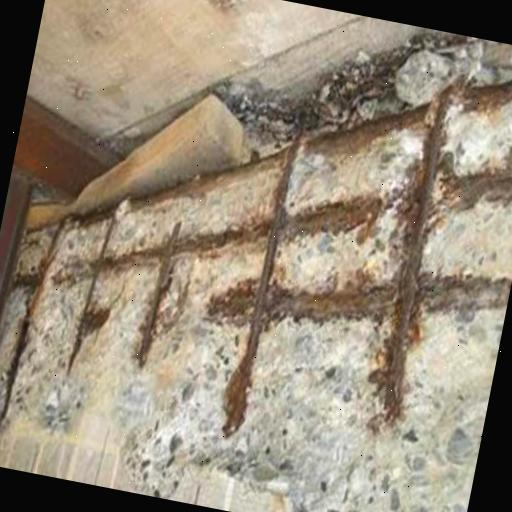spalling: (0, 77, 512, 512)
